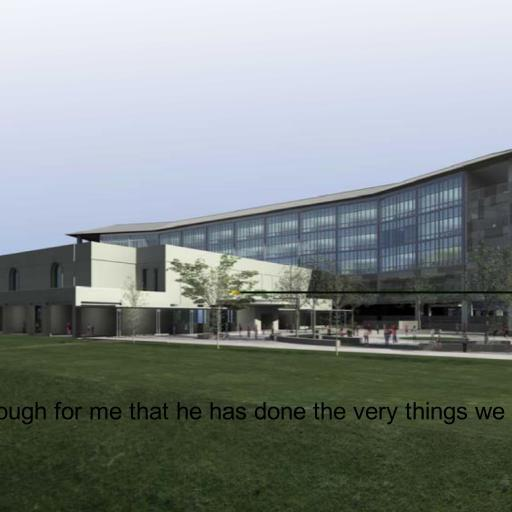Arial: (0, 401, 512, 425)
